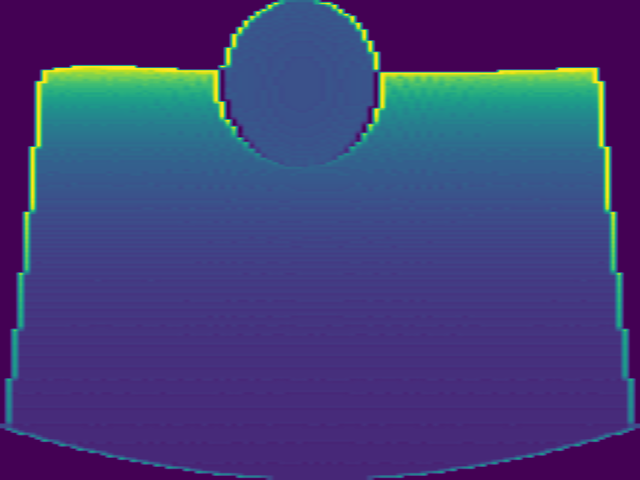sphere: (216, 3, 383, 168)
